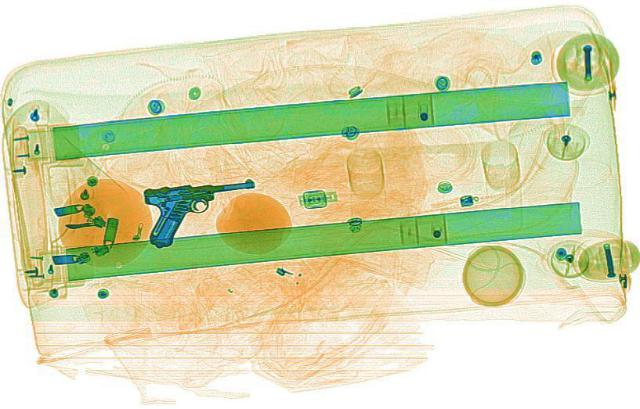Gun: (132, 176, 272, 247)
